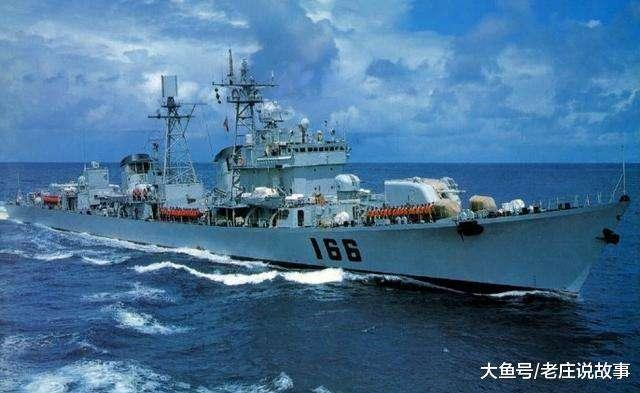warship: (11, 45, 633, 313)
